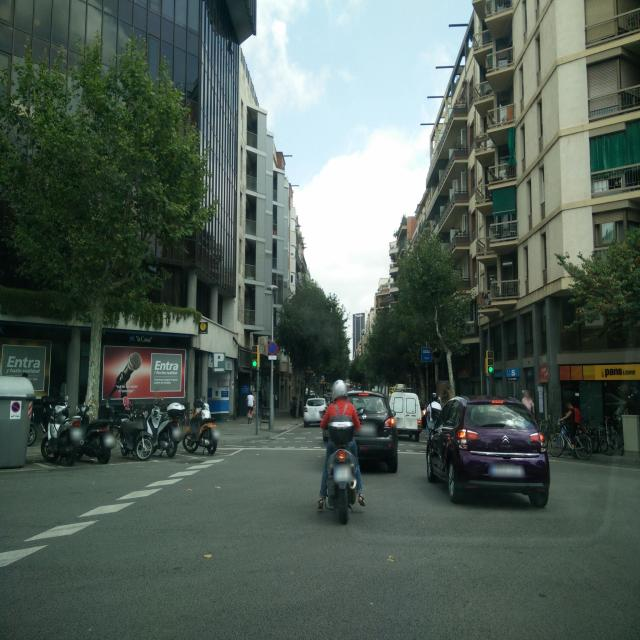bike: (316, 424, 366, 526), (41, 400, 113, 466), (84, 401, 152, 462), (177, 398, 218, 454), (136, 408, 178, 459), (549, 418, 592, 459), (590, 422, 626, 456)
car: (425, 394, 551, 508), (320, 390, 399, 474), (388, 391, 422, 442), (303, 398, 328, 428)
